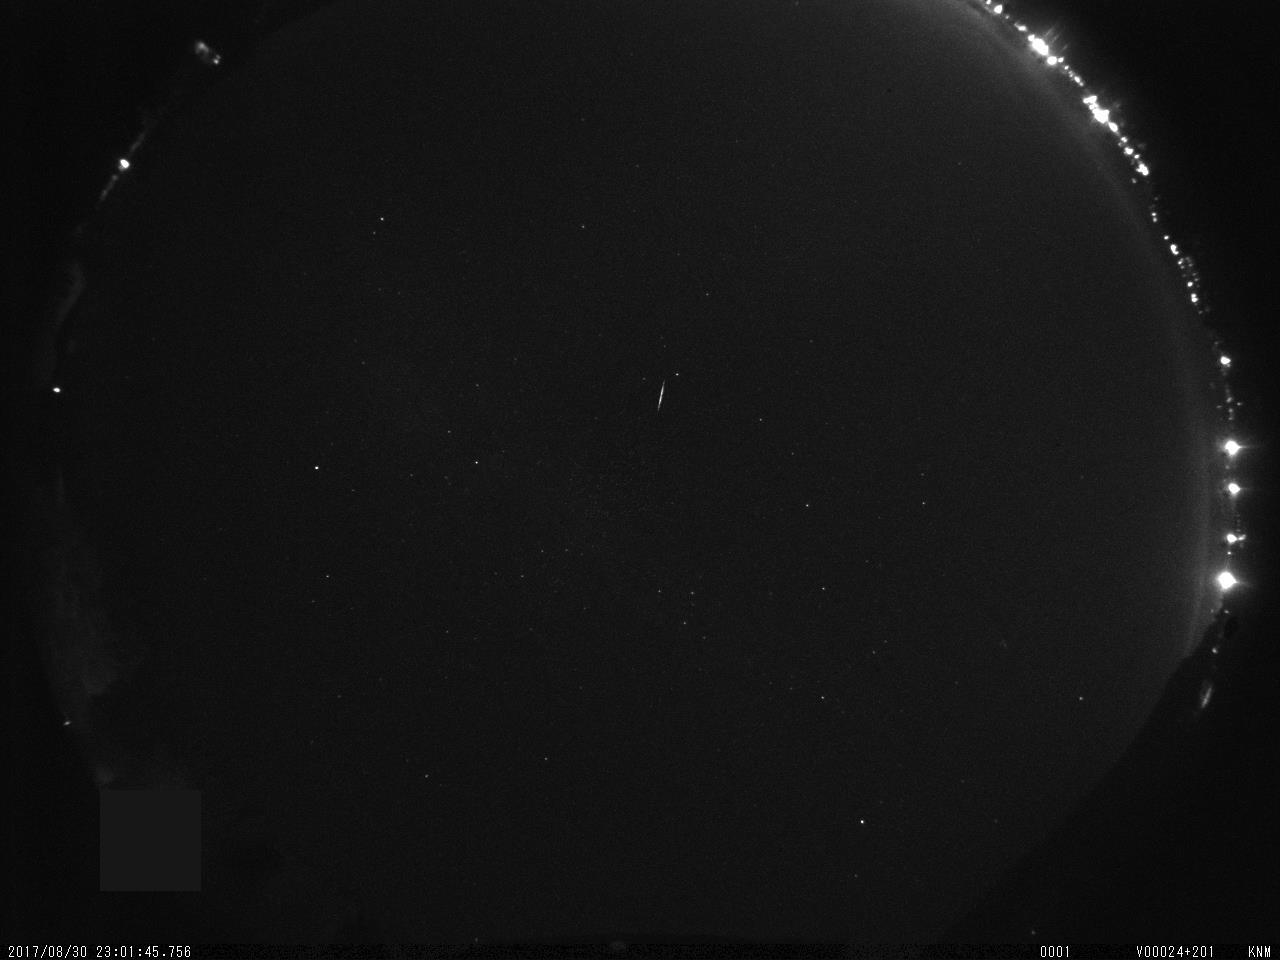meteor: (621, 365, 689, 418)
